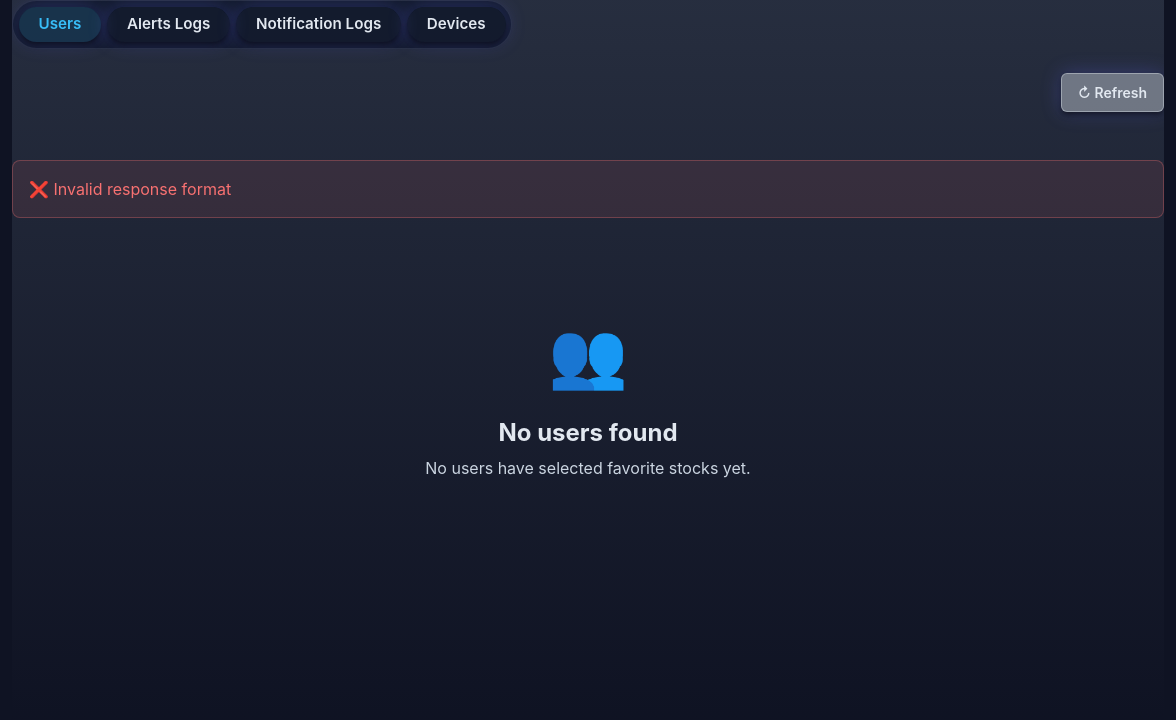
Scenario: MonitoringSection (Legacy MonitoringPage Tests) › should load and display devices when Devices tab is clicked
# Click on Alerts Logs tab first (MonitoringSection defaults to "users" tab)
Click the button "Alerts Logs" at (169, 24), box [107, 7, 230, 42]
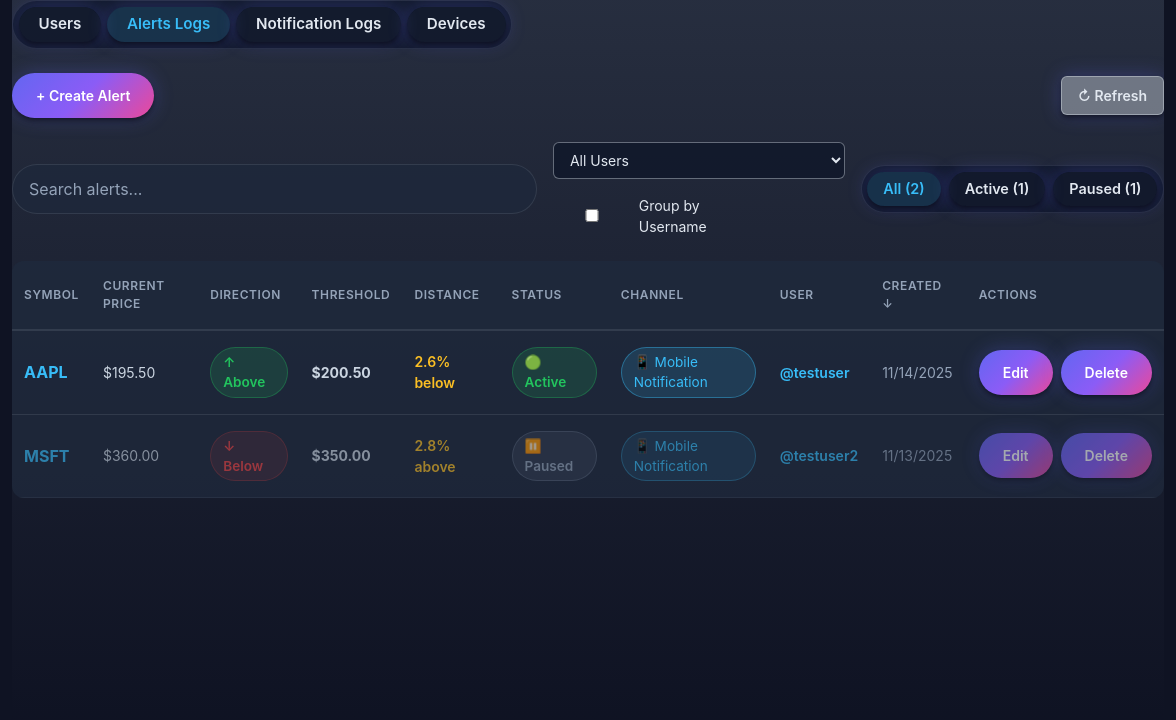
Result: the text "AAPL" is shown at [24, 362, 68, 382]
# Click on Devices tab
Click the button "Devices" at (456, 24), box [407, 7, 506, 42]
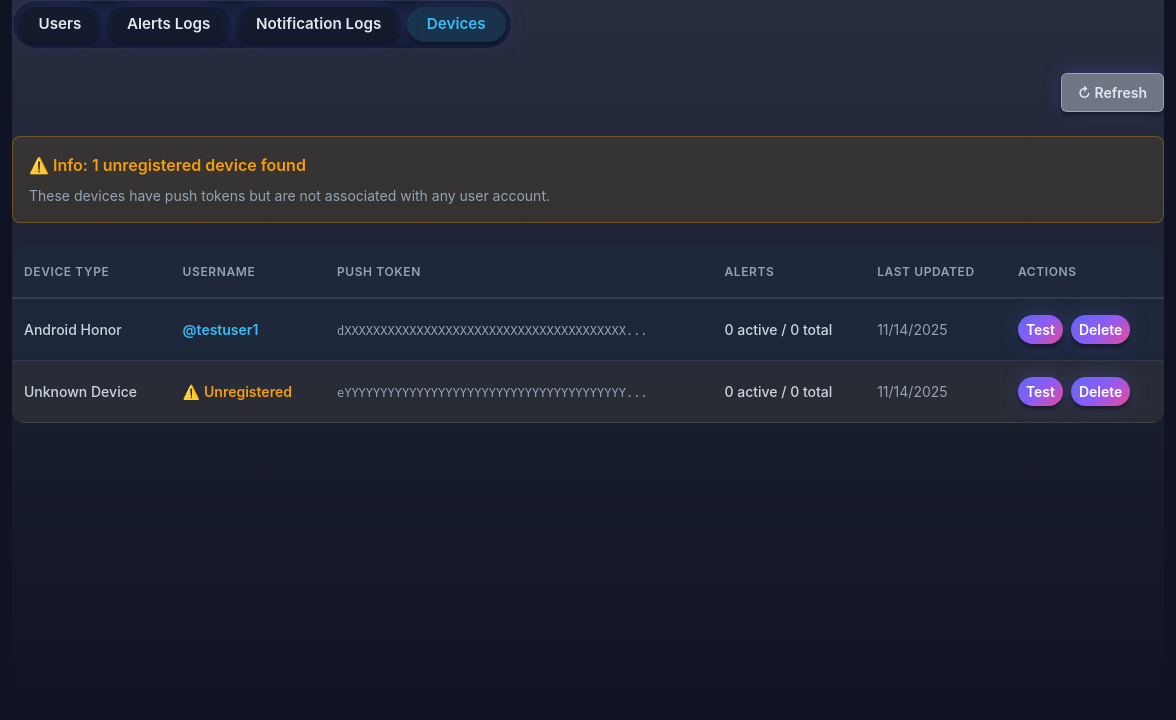
Result: the text "Android Honor" is shown at [24, 321, 122, 338]
Result: the text "@testuser1" is shown at [183, 321, 258, 338]
Result: the text "Unregistered" is shown at [204, 381, 292, 402]
